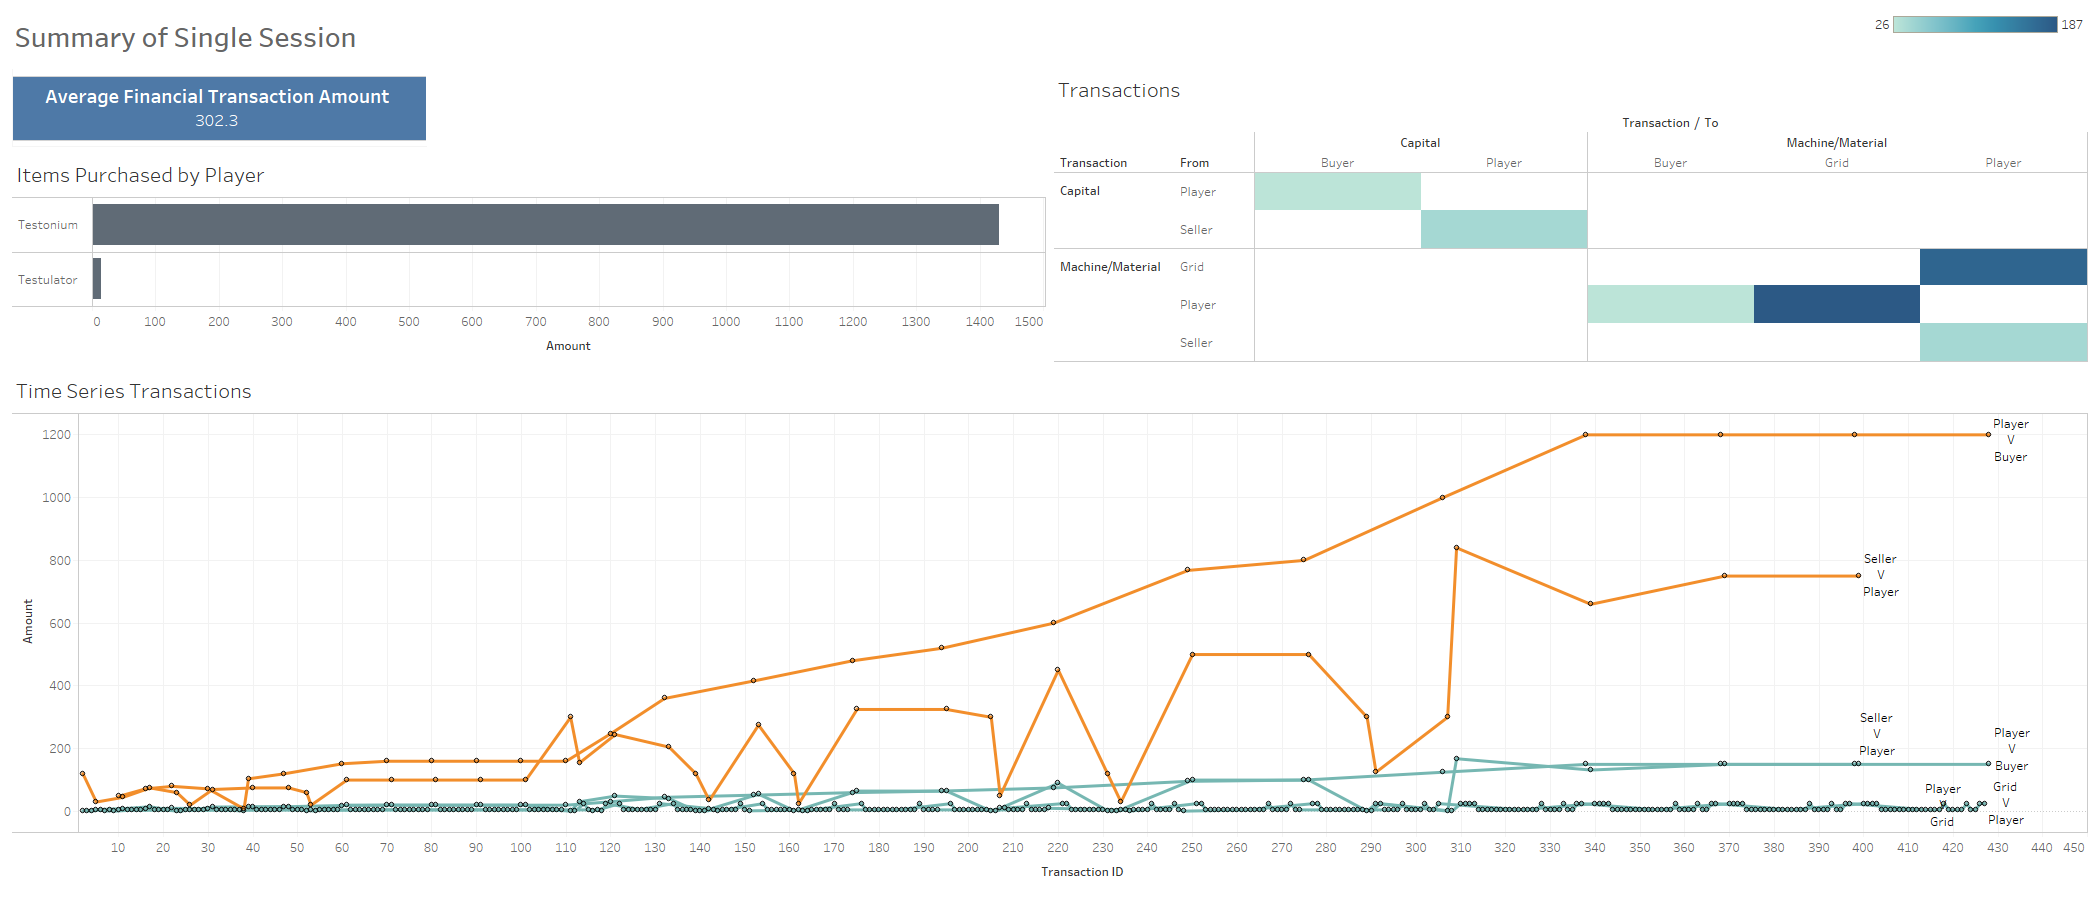

Layout of this report page (visuals, bound fields, positions):
{"tool":"tableau","page":{"name":"Session Summary","canvas":[2100,900],"ordinal":0},"visuals":[{"type":"worksheet","box":[0,0,2100,900]},{"type":"worksheet","param":"horz","box":[8,8,2084,884]},{"type":"worksheet","box":[8,8,2084,884]},{"type":"worksheet","box":[8,8,1042,57]},{"type":"worksheet","box":[1050,8,817,57]},{"type":"worksheet","title":"Transactions","mark":"Automatic","rows":["From"],"cols":["To"],"param":"[federated.0db9eld13ccbpj14jwqoq0a7vgvi].[sum:Calculation_2122321358109773825:qk","box":[1867,8,225,57]},{"type":"worksheet","title":"Average Amount per Transaction","mark":"Bar","cols":["Calculation_2122321358111948804"],"box":[8,65,422.4,85]},{"type":"worksheet","box":[430.4,65,619.6,85]},{"type":"worksheet","title":"Transactions","mark":"Automatic","rows":["From"],"cols":["To"],"box":[1050,65,1042,301]},{"type":"worksheet","title":"Items Purchased by Player","mark":"Bar","rows":["Calculation_2122321358110875650","To"],"cols":["Amount"],"box":[8,150,1042,216]},{"type":"worksheet","title":"Time Series Transactions","mark":"Automatic","rows":["Amount","Amount"],"cols":["Transaction_ID"],"box":[8,366,2084,526]}]}

Visuals, with their boxes in screenshot pixels (x1, y1, x2, y2), scaled from the page's 2100x900 canvas onto the 2100x900 screenshot:
worksheet: (left=0, top=0, right=2099, bottom=899)
worksheet: (left=8, top=8, right=2092, bottom=892)
worksheet: (left=8, top=8, right=2092, bottom=892)
worksheet: (left=8, top=8, right=1050, bottom=65)
worksheet: (left=1050, top=8, right=1867, bottom=65)
"Transactions" worksheet: (left=1867, top=8, right=2092, bottom=65)
"Average Amount per Transaction" worksheet (Bar marks): (left=8, top=65, right=430, bottom=150)
worksheet: (left=430, top=65, right=1050, bottom=150)
"Transactions" worksheet: (left=1050, top=65, right=2092, bottom=366)
"Items Purchased by Player" worksheet (Bar marks): (left=8, top=150, right=1050, bottom=366)
"Time Series Transactions" worksheet: (left=8, top=366, right=2092, bottom=892)
